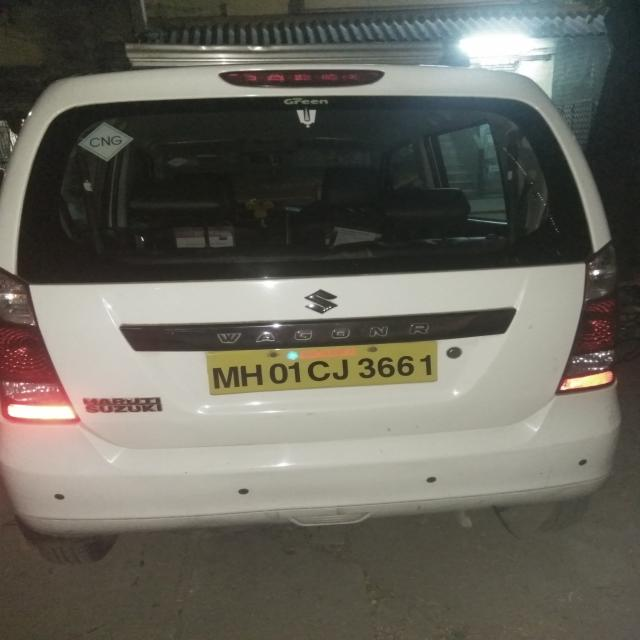Number-Plate: (207, 346, 437, 389)
